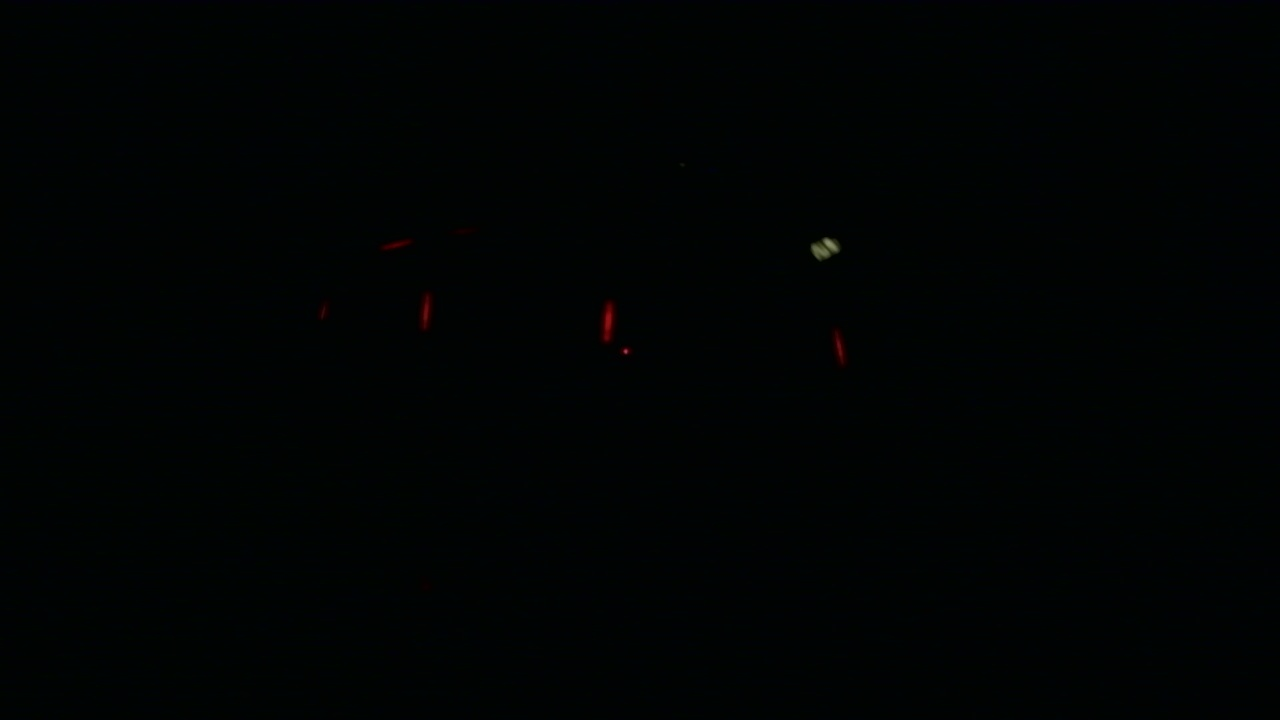lamp: (602, 294, 614, 342), (418, 294, 429, 346)
pair2: (419, 295, 614, 347)
